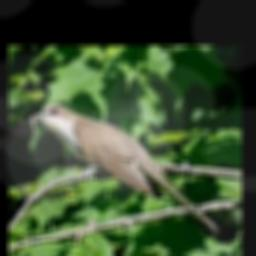Cuckoo: (29, 103, 220, 235)
